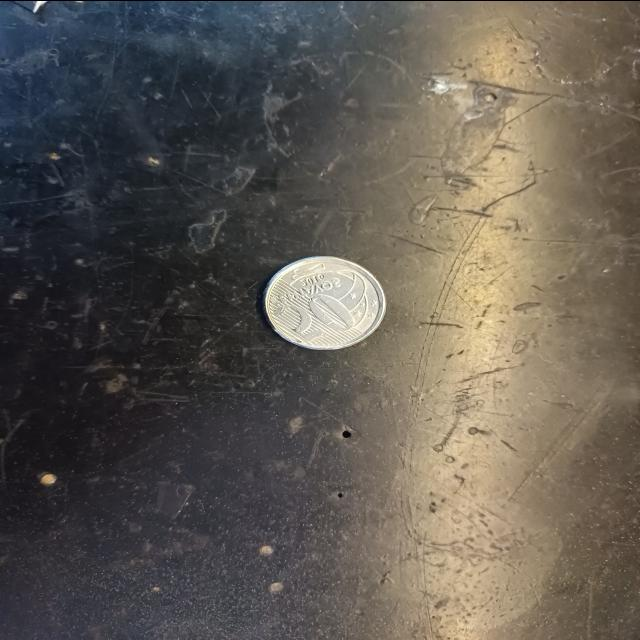50 cents: (263, 254, 392, 352)
